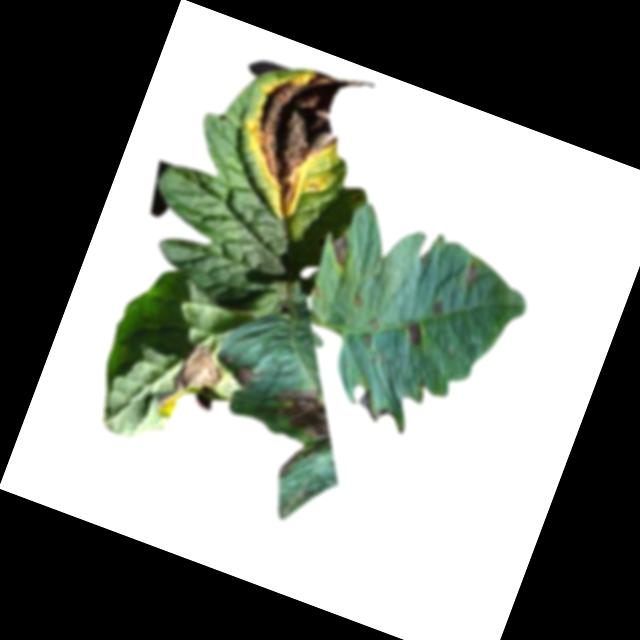Early_blight: (229, 47, 379, 232), (249, 372, 350, 493), (153, 334, 232, 435), (321, 229, 357, 271), (231, 359, 263, 392), (459, 259, 484, 293), (402, 317, 430, 347), (427, 296, 451, 320), (358, 329, 375, 345)
